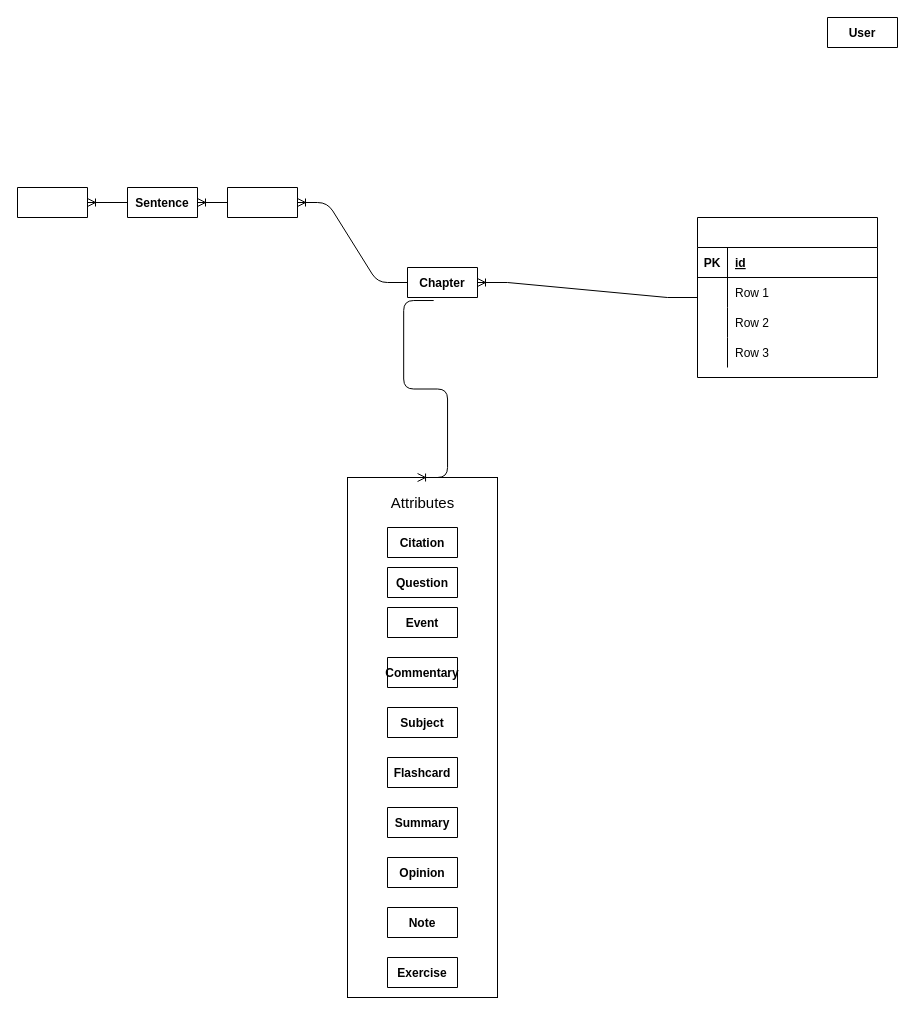
Some shapes in this 915 by 1015 pixel diagram are drawn without their labels. The box of each missing label's shape, as (x1, y1, x2, y2) in pixels:
Book: (696, 216, 878, 378)
Paragraph: (226, 186, 298, 218)
Word: (16, 186, 88, 218)
